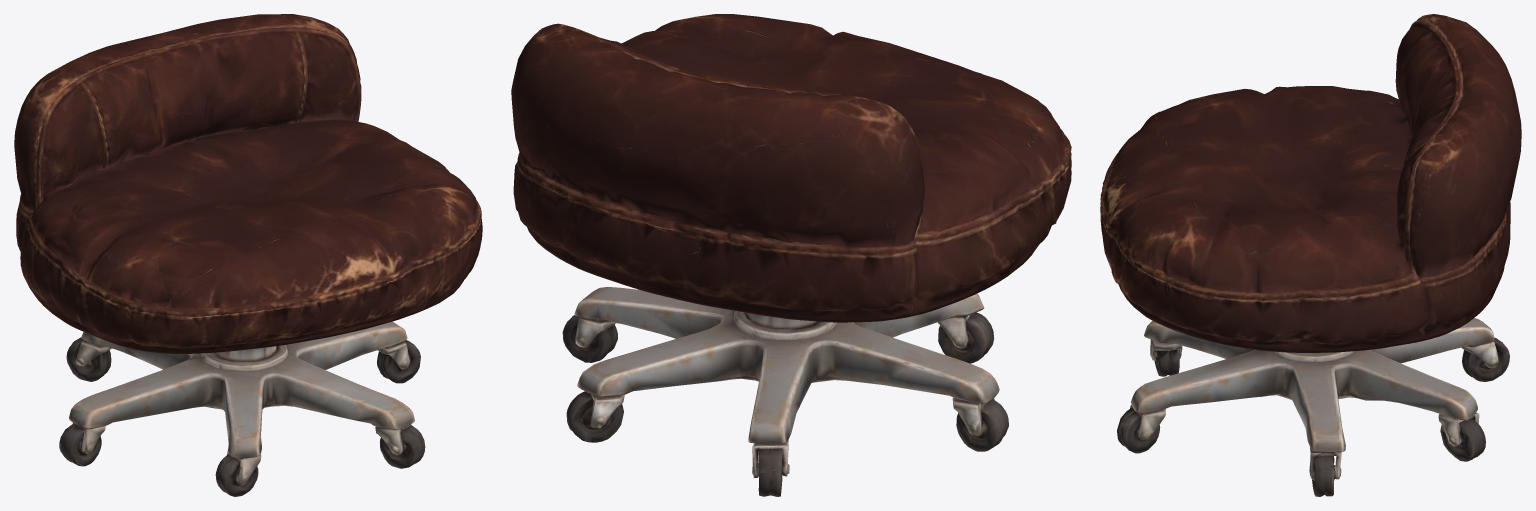
Rendered from d_chef_chair.glb.
The picture shows the model from 3 angles, left to right: view 1: azimuth 30°, elevation 25°; view 2: azimuth 150°, elevation 25°; view 3: azimuth 270°, elevation 25°; orthographic projection. The views are drawn at different scales.
Size of the model in its own units: 1.9 by 1.52 by 1.72.
1 material, 1 textured.
